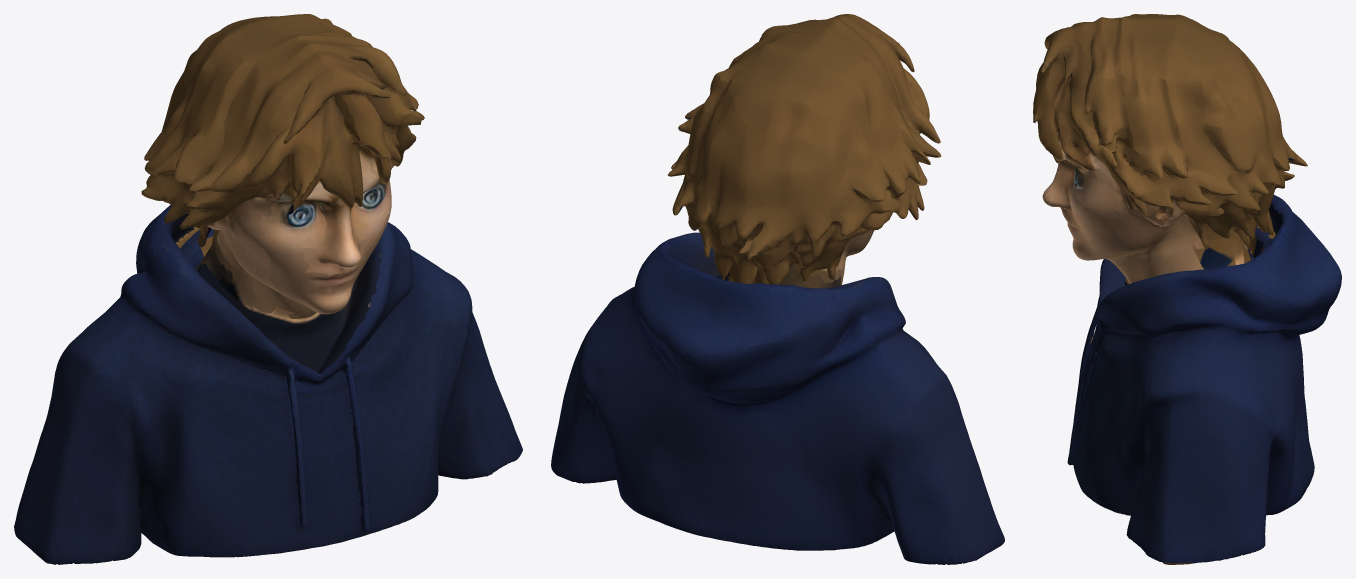
The picture shows the model from 3 angles, left to right: view 1: azimuth 30°, elevation 25°; view 2: azimuth 150°, elevation 25°; view 3: azimuth 270°, elevation 25°; orthographic projection. The views are drawn at different scales.
Parts seen in each view (by area): view 1: tmpxrihg21t.ply; view 2: tmpxrihg21t.ply; view 3: tmpxrihg21t.ply.
Boxes of the visible parts, x1,y1,x2,y2 form: tmpxrihg21t.ply: [14, 14, 522, 564]; tmpxrihg21t.ply: [551, 14, 1004, 564]; tmpxrihg21t.ply: [1033, 14, 1341, 564].
Size of the model in its own units: 1.99 by 1.99 by 1.27.
1 material, 1 textured.
